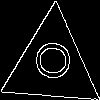O: (27, 39, 71, 82)
